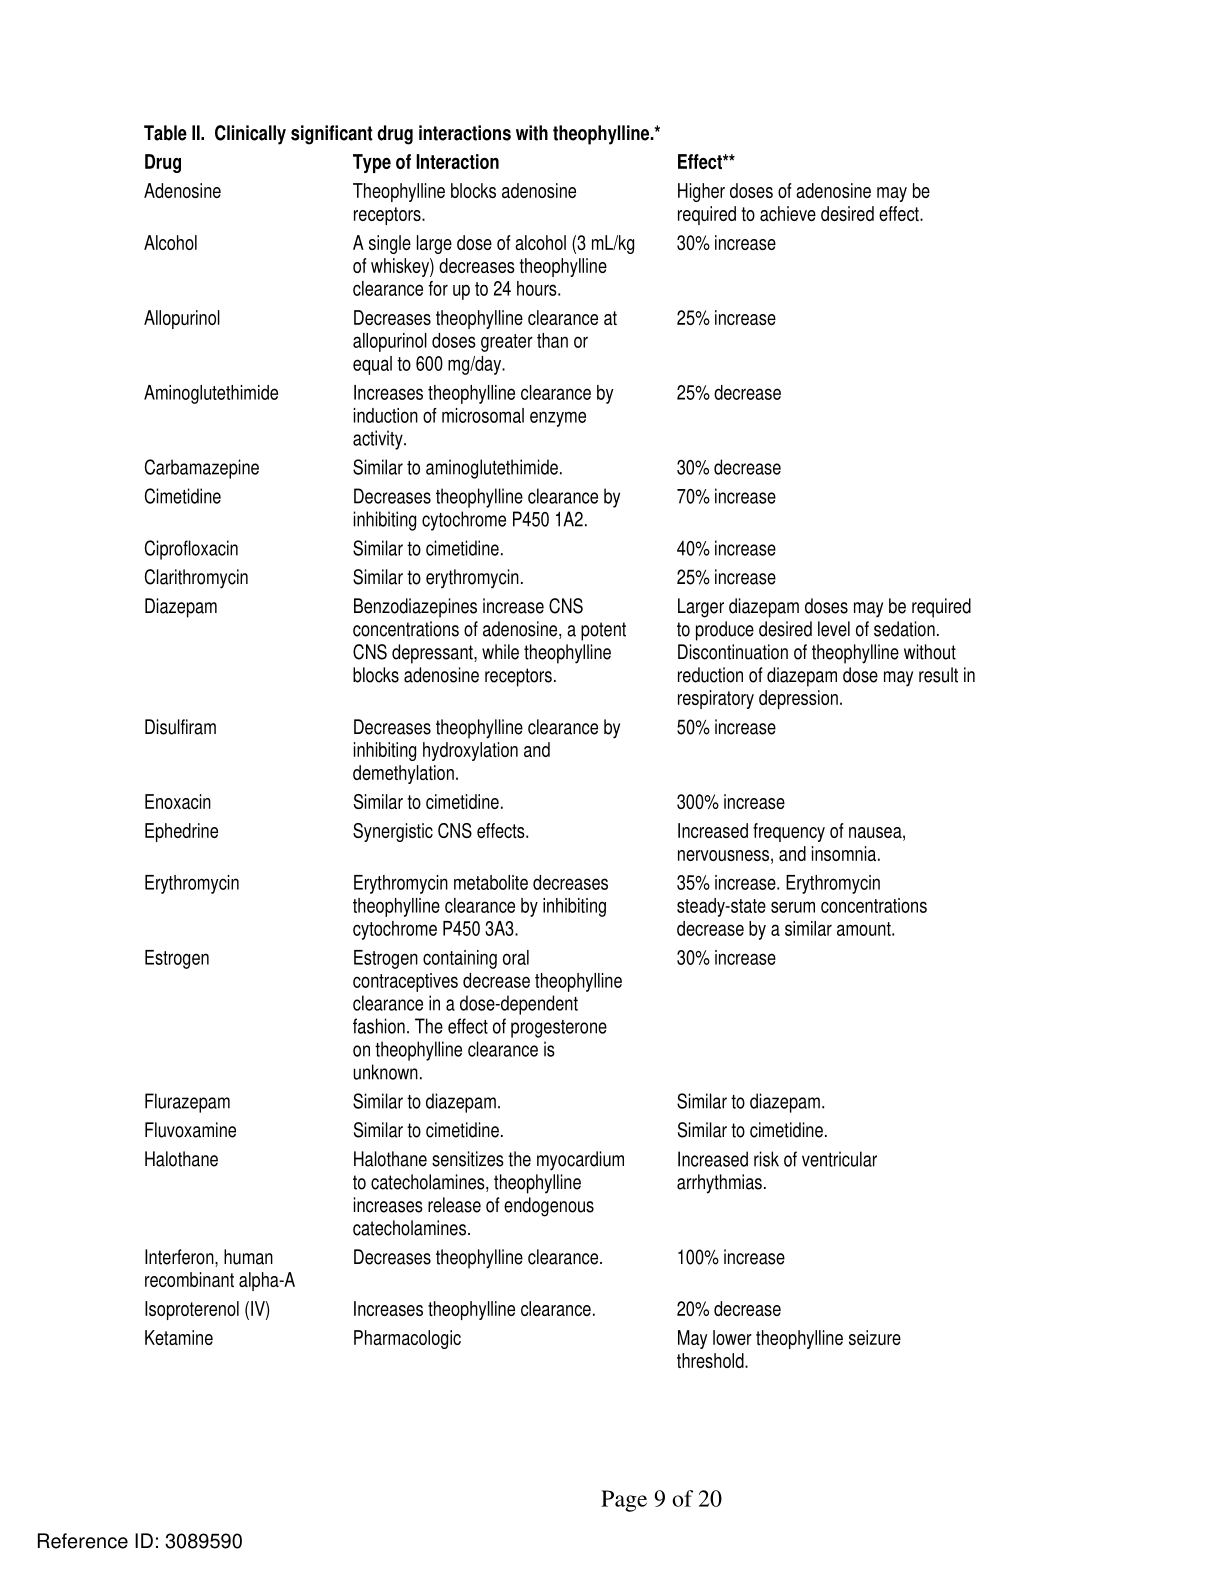nolines: (141, 150, 977, 1373)
